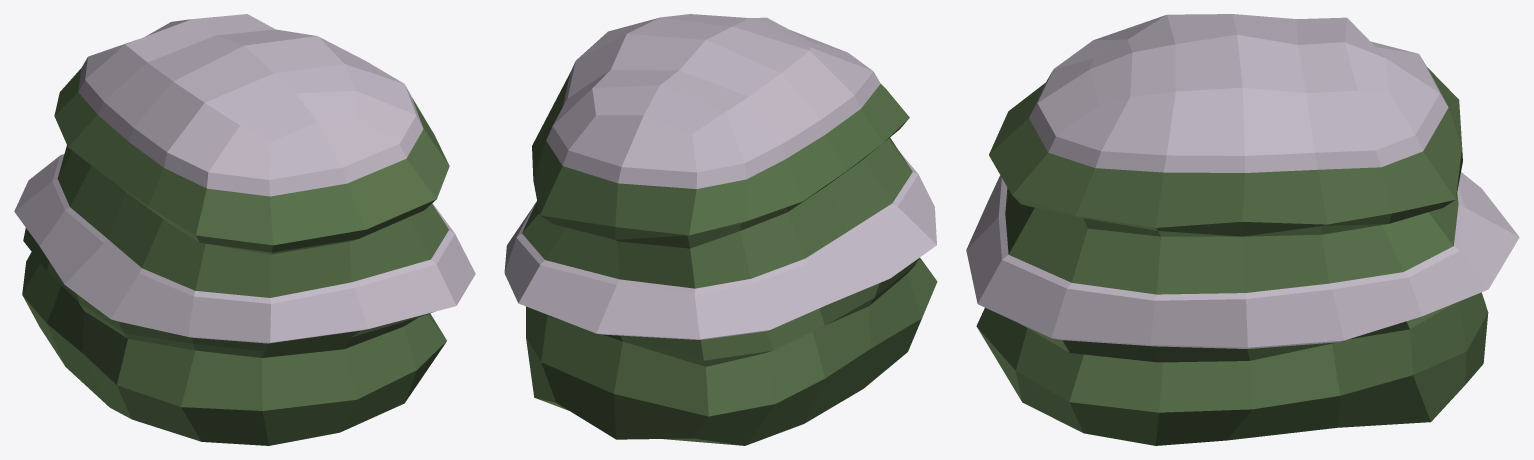
Rendered from Bush_Snow_1.glb.
The picture shows the model from 3 angles, left to right: view 1: azimuth 30°, elevation 25°; view 2: azimuth 150°, elevation 25°; view 3: azimuth 270°, elevation 25°; orthographic projection. The views are drawn at different scales.
Parts seen in each view (by area): view 1: Bush_Snow_1; view 2: Bush_Snow_1; view 3: Bush_Snow_1.
Part boxes in pixels (x1,y1,x2,y2): Bush_Snow_1: (14, 14, 475, 445); Bush_Snow_1: (504, 14, 937, 445); Bush_Snow_1: (966, 14, 1519, 445).
Bounding box in the file's own units: 1.39 × 1.28 × 1.78.
